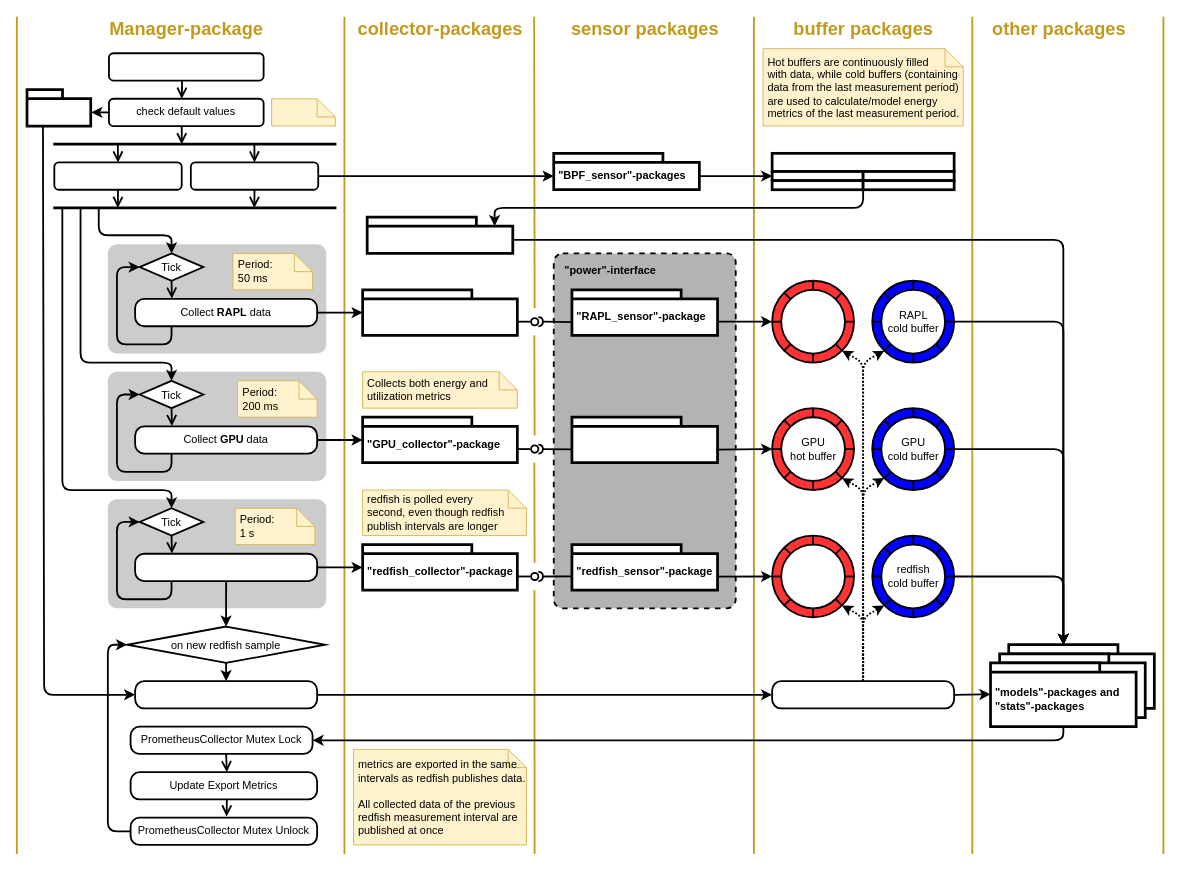
This 1180x871 diagram has some shape labels left out. Here are the shapes that lost their labels. From the top down, the centre of each, then its label:
pixel 186 66: Start() parse flags, init config
pixel 58 107: config
pixel 303 112: calculate delays
pixel 117 175: spawn all Tickers
pixel 254 175: start BPF tracers
pixel 862 162: BPF maps
pixel 439 234: "BPF_collector"-package
pixel 439 312: "RAPL_collector "-package
pixel 812 321: RAPL hot buffer
pixel 644 439: "GPU_sensor"-package
pixel 226 566: Collect Redfish data
pixel 812 576: redfish hot buffer
pixel 226 694: wait for custom delay
pixel 863 694: switch hot and cold buffers
